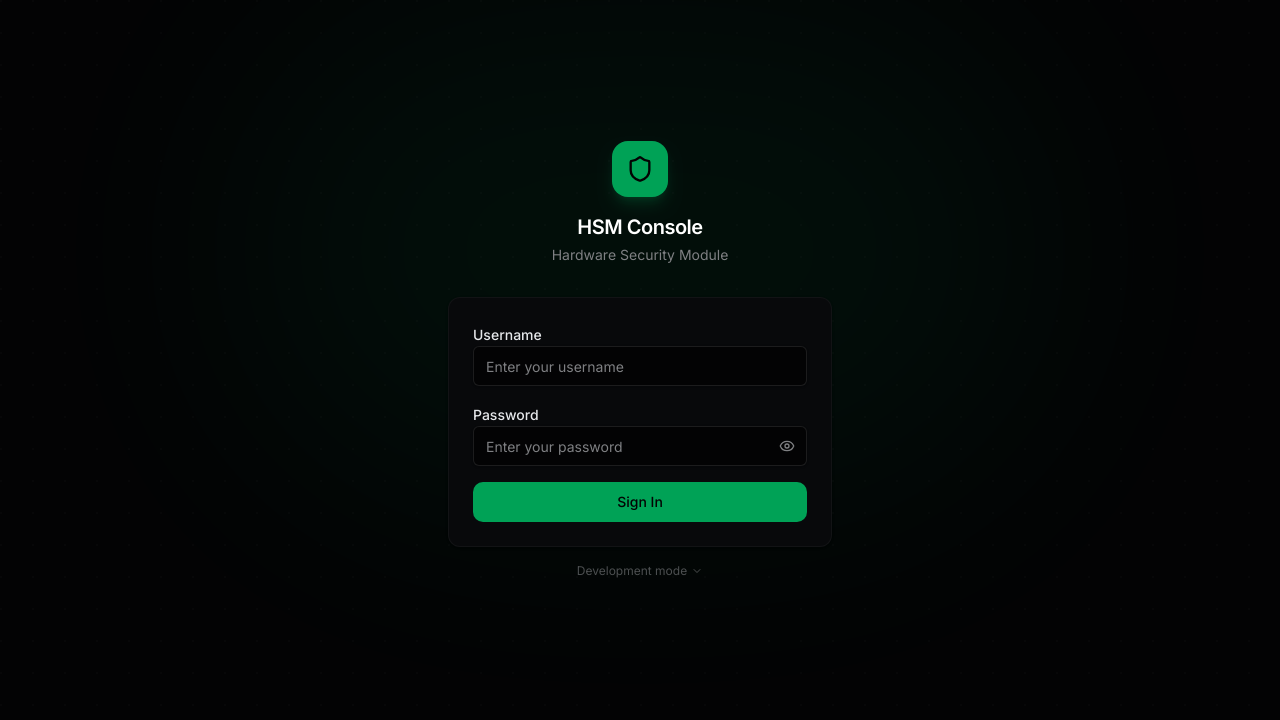
Test: Login Page › Form Validation › shows error when submitting empty form
The width and height of the screenshot is (1280, 720).
Click the submit button at (640, 502), box [473,482,807,522]
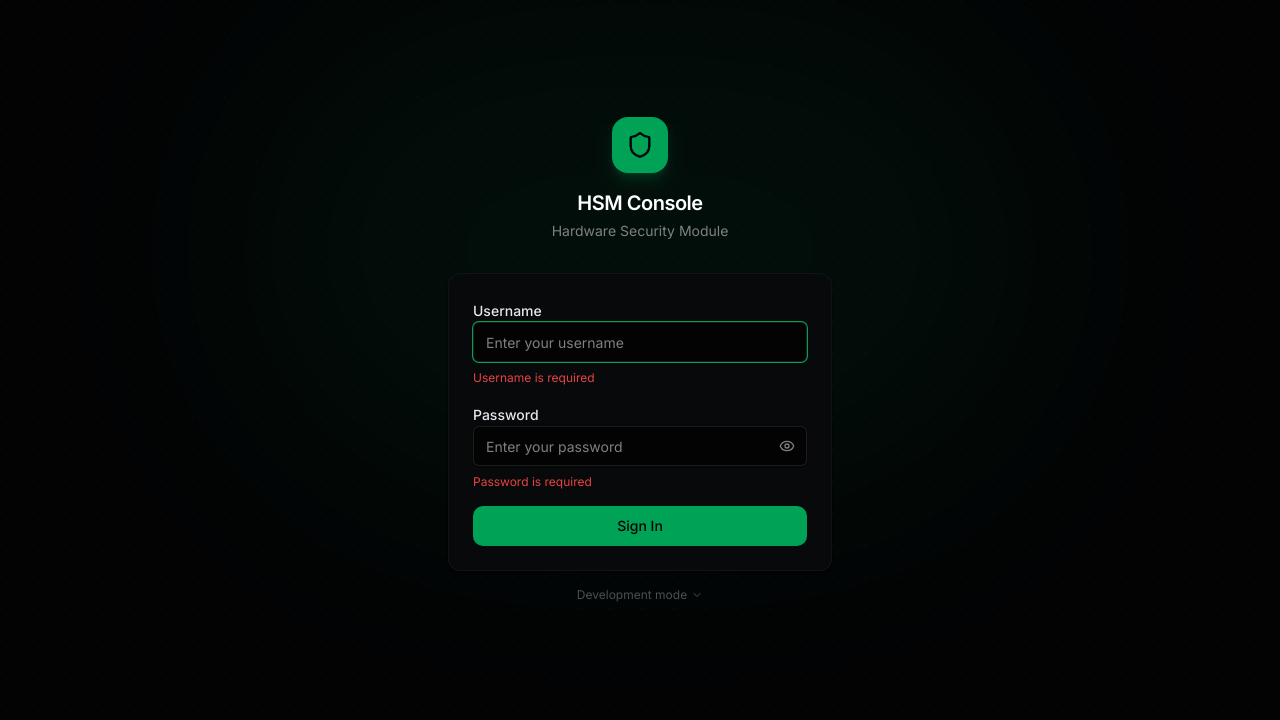
Expected: the text "Username is required" is shown, [473,370,595,385]
Expected: the text "Password is required" is shown, [473,474,592,489]
